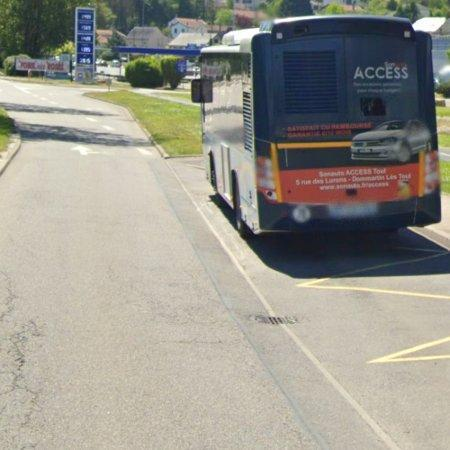buses: (192, 17, 441, 235)
